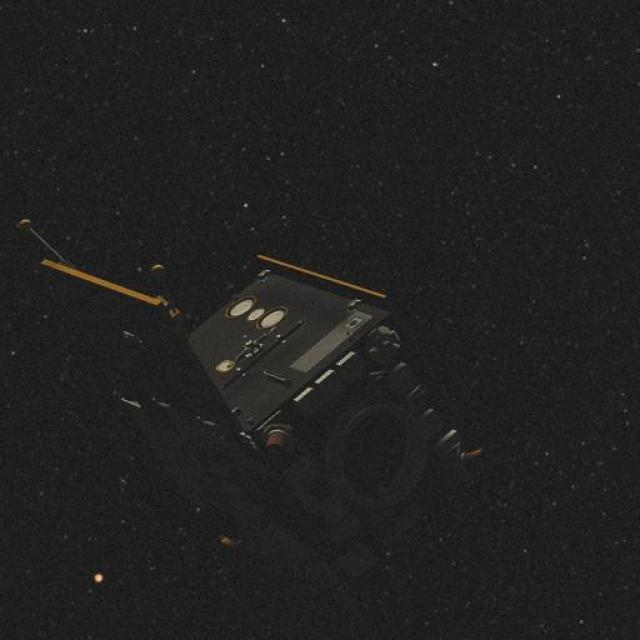proba_2: (15, 223, 486, 601)
